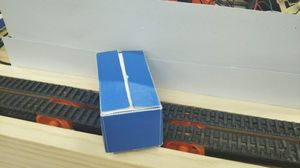box3: (93, 48, 163, 154)
